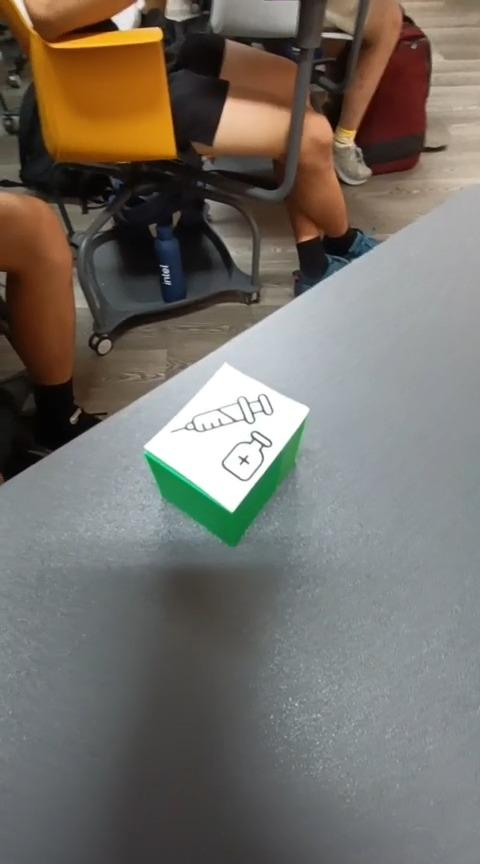antiseptic cream: (142, 360, 310, 547)
